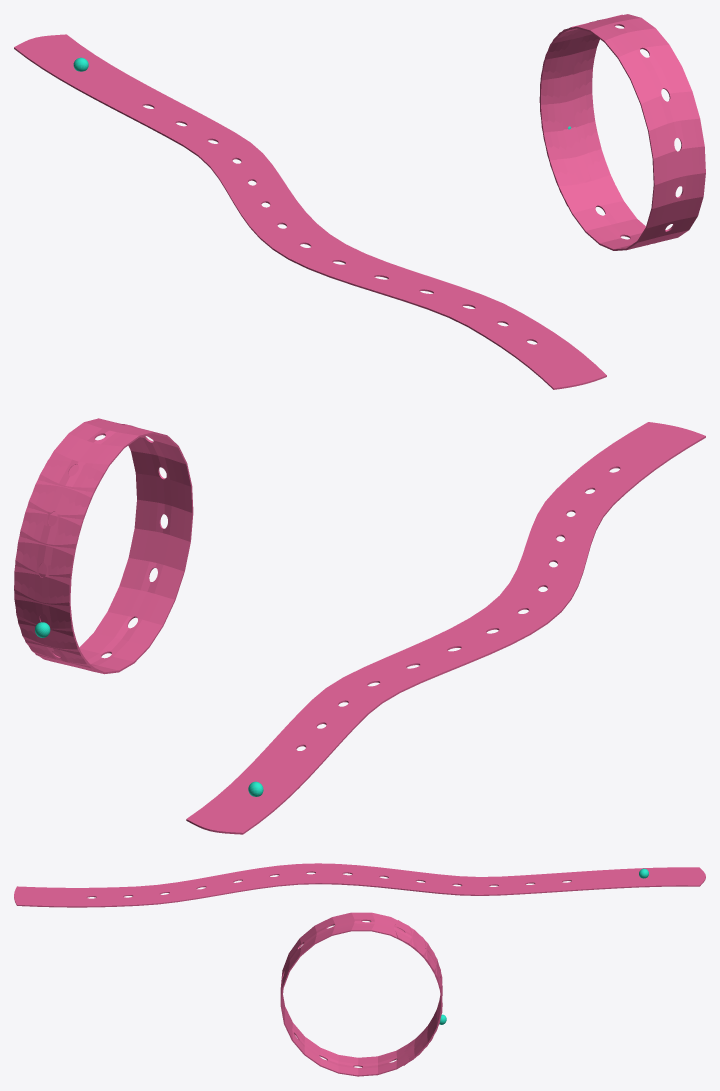
Rendered from Tourniquet.fbx.
3 views of the same model, one above another, from view 1: azimuth 30°, elevation 25°; view 2: azimuth 150°, elevation 25°; view 3: azimuth 270°, elevation 25° (orthographic). The views are drawn at different scales.
Parts seen in each view (by area): view 1: Tourniquet.001, Tourniquet_ShapeKey; view 2: Tourniquet.001, Tourniquet_ShapeKey; view 3: Tourniquet.001, Tourniquet_ShapeKey.
Boxes of the visible parts, x1,y1,x2,y2 form: Tourniquet.001: (14, 34, 606, 389); Tourniquet_ShapeKey: (539, 14, 705, 250); Tourniquet.001: (186, 422, 705, 834); Tourniquet_ShapeKey: (14, 418, 193, 674); Tourniquet.001: (14, 863, 705, 907); Tourniquet_ShapeKey: (280, 912, 446, 1076).
Size of the model in its own units: 1014 by 498 by 2121.
